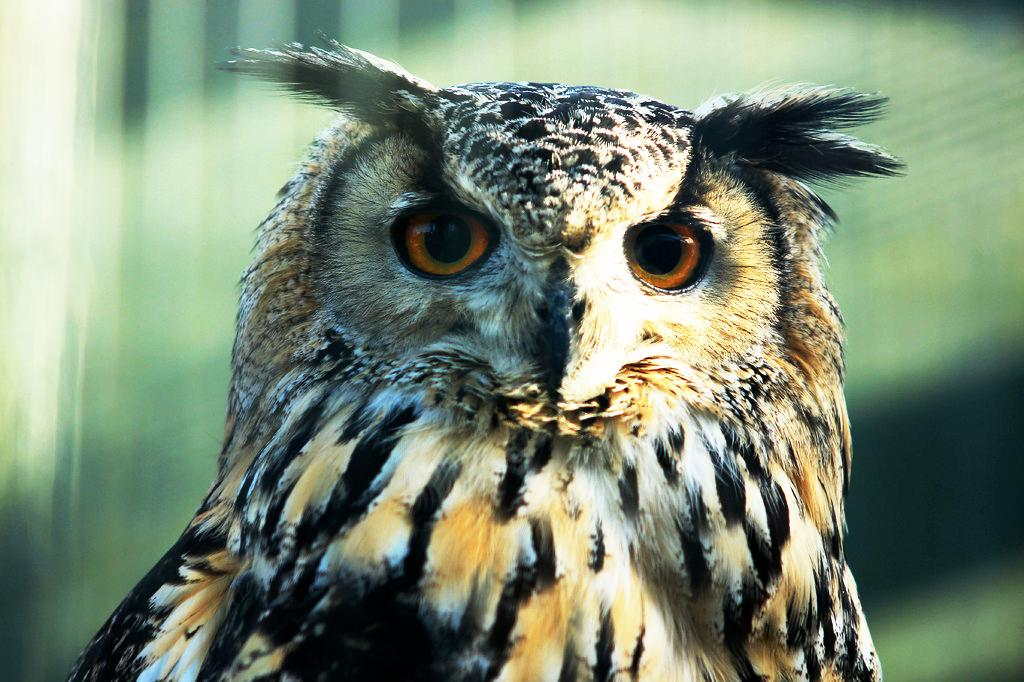Owl: (66, 44, 911, 682)
